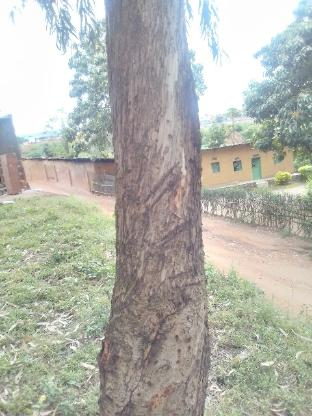tree: (94, 0, 219, 416)
